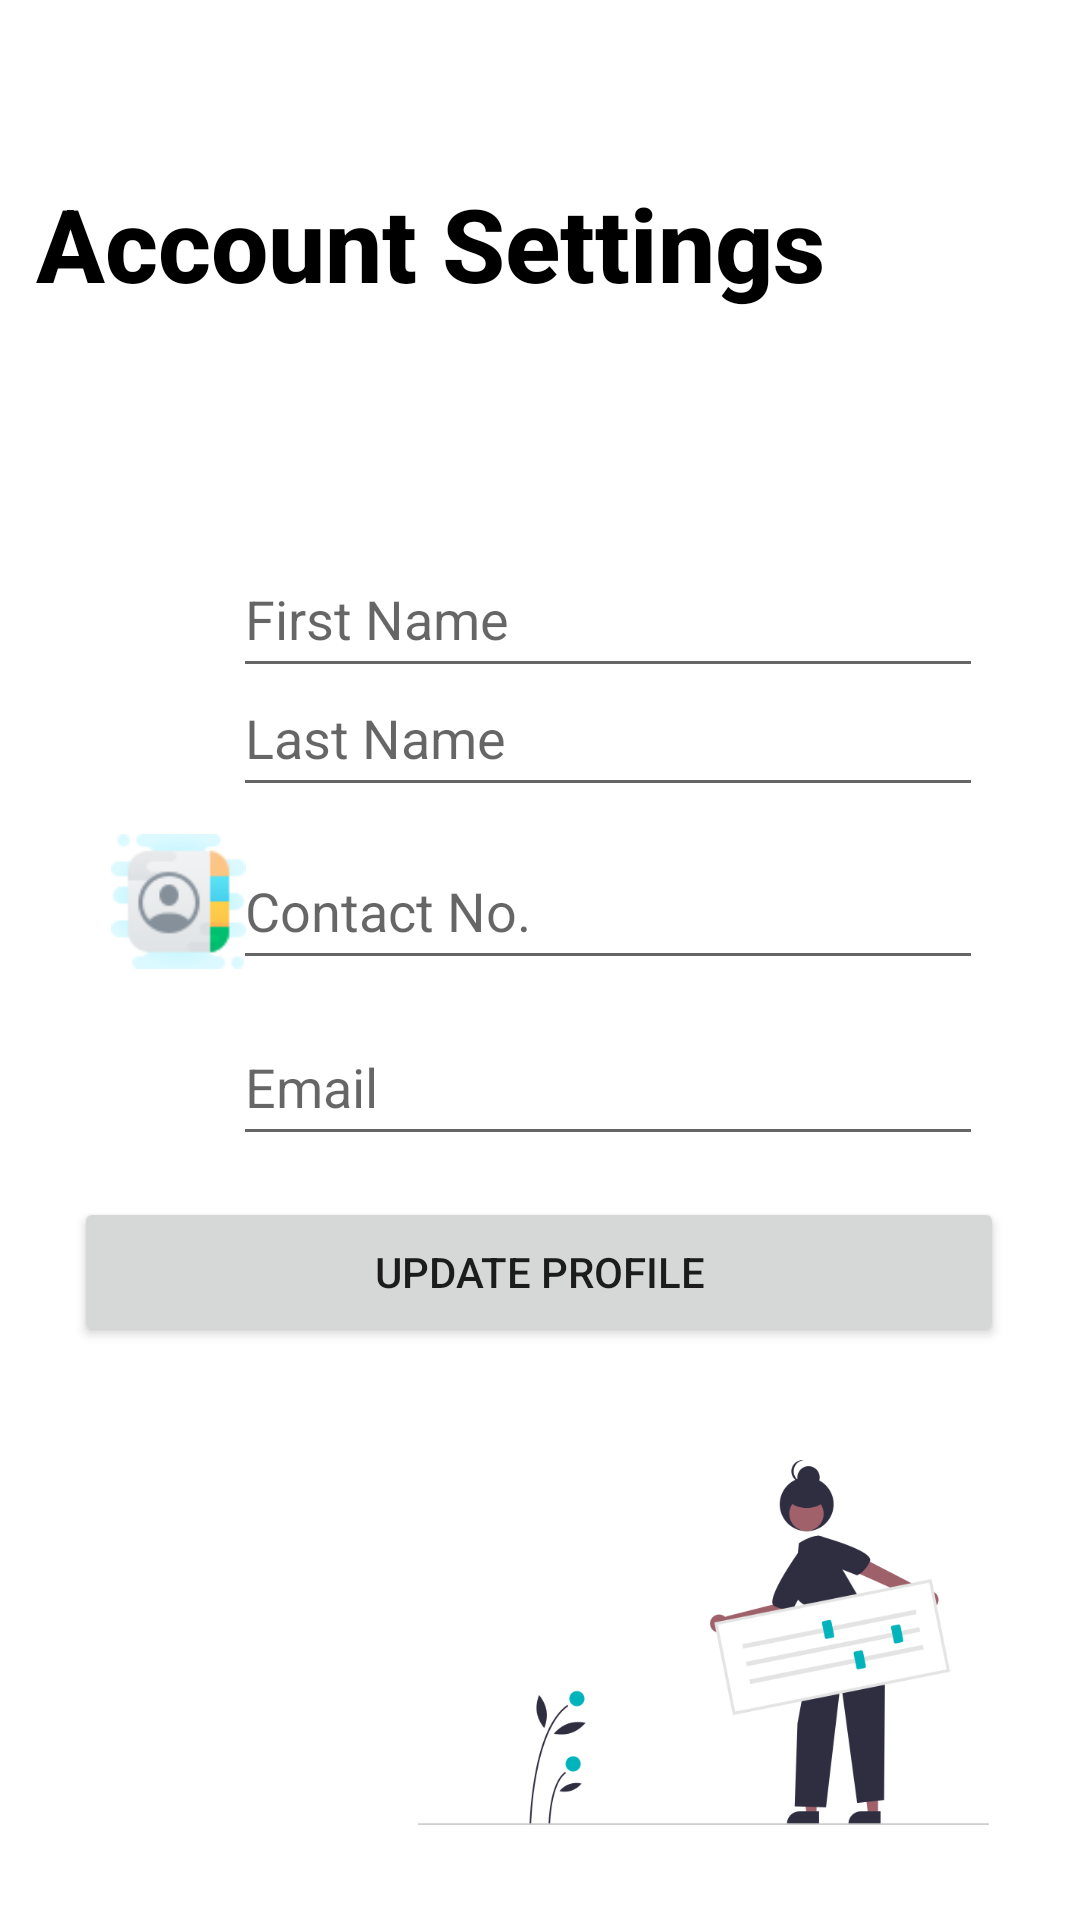

Named icons in this screenshot (1080*1920) and their bounding boxes, (x1, y1, x2, y2):
contactico: (111, 834, 246, 969)
